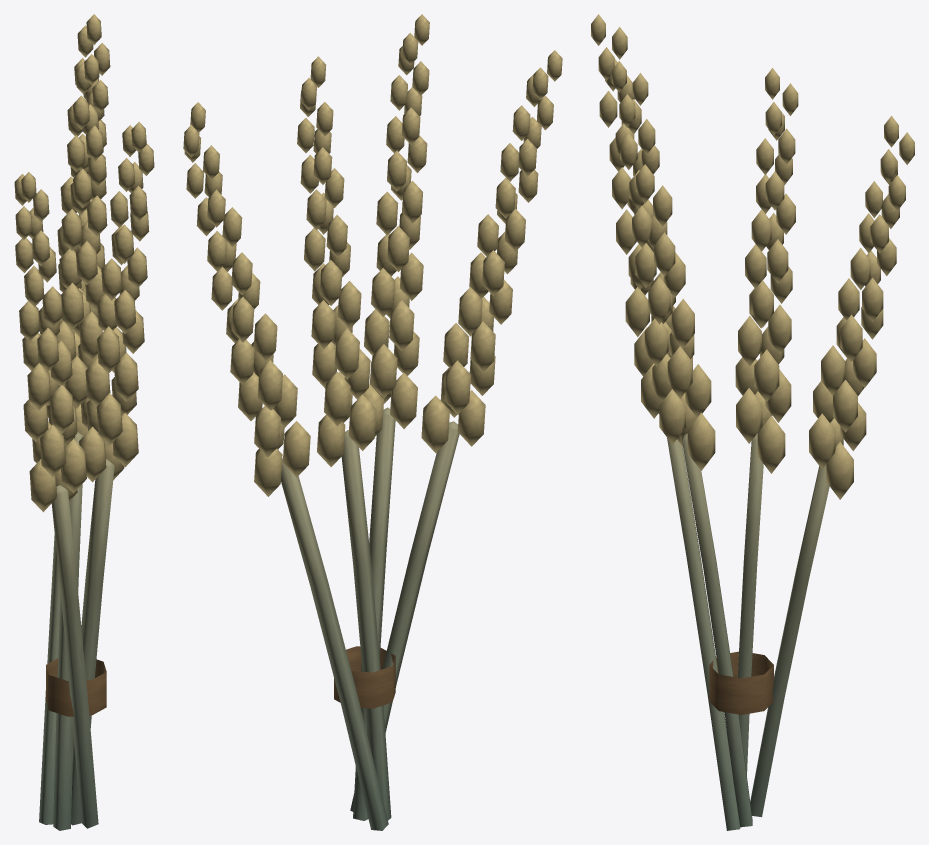
File: lymegrain.glb
3 renders of one model, left to right at view 1: azimuth 30°, elevation 25°; view 2: azimuth 150°, elevation 25°; view 3: azimuth 270°, elevation 25°, orthographic. The views are drawn at different scales.
Parts seen in each view (by area): view 1: lymegrain; view 2: lymegrain; view 3: lymegrain.
Part boxes in pixels (x1,y1,x2,y2): lymegrain: (14, 14, 154, 830); lymegrain: (183, 14, 562, 830); lymegrain: (591, 14, 914, 830).
Size of the model in its own units: 0.1005 by 0.3164 by 0.1202.
1 material, 1 textured.
